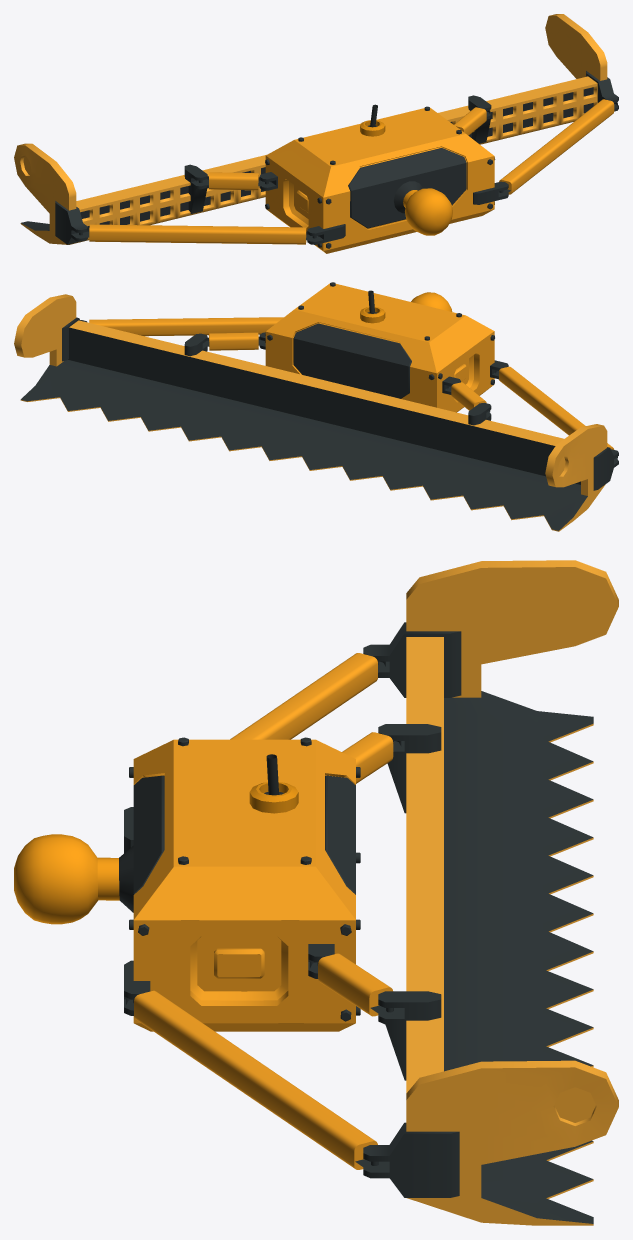
File: Straw_Dog_4_head.obj
3 views of the same model, one above another, from view 1: azimuth 30°, elevation 25°; view 2: azimuth 150°, elevation 25°; view 3: azimuth 270°, elevation 25° (orthographic). The views are drawn at different scales.
Parts seen in each view (by area): view 1: head_Cube.001; view 2: head_Cube.001; view 3: head_Cube.001.
Boxes of the visible parts, bbox=[...] form: head_Cube.001: bbox=[14, 14, 618, 253]; head_Cube.001: bbox=[14, 282, 618, 531]; head_Cube.001: bbox=[14, 560, 618, 1225].
Size of the model in its own units: 9.85 by 1.96 by 4.93.
